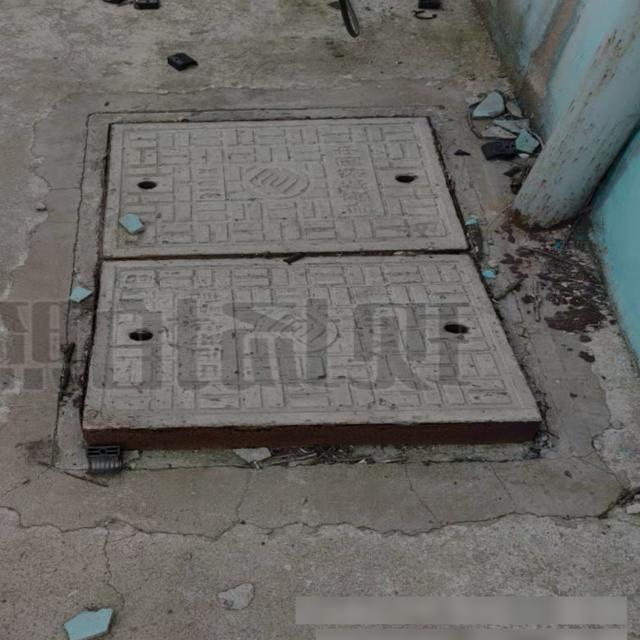uncovered: (51, 103, 566, 470)
